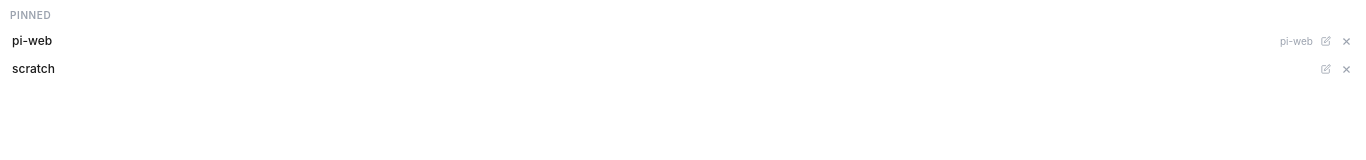
PinnedDirsList › clicking unpin while editing does not race with a save POST
This screenshot has width=1366, height=160.
Check: the number of list items is 2, box [12,33,1354,48]; [12,61,1354,76]
# Open editor and change value.
Click the 1st button named "Set alias…".
click(1326, 41)  # box [1319,34,1333,48]
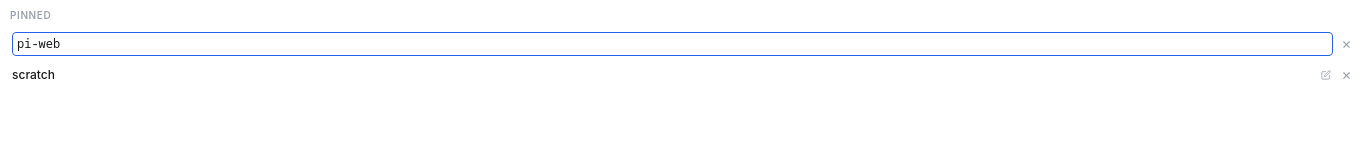
Replace the text in the field with "new-alias" at (672, 44), box [12,32,1333,56]
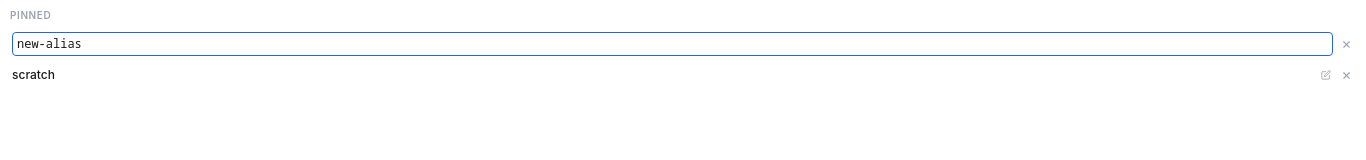
Click the 1st button named "Unpin".
click(1346, 44)  # box [1339,36,1354,52]
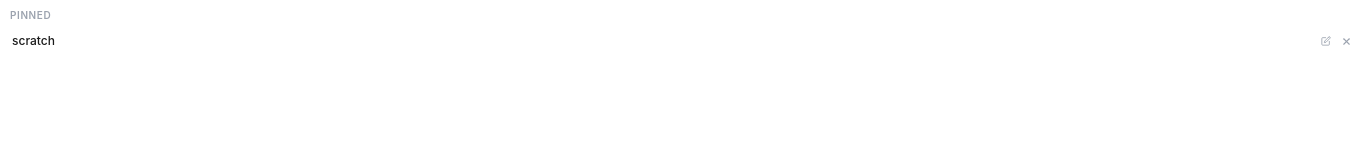
Check: the number of list items is 1, box [12,33,1354,48]
